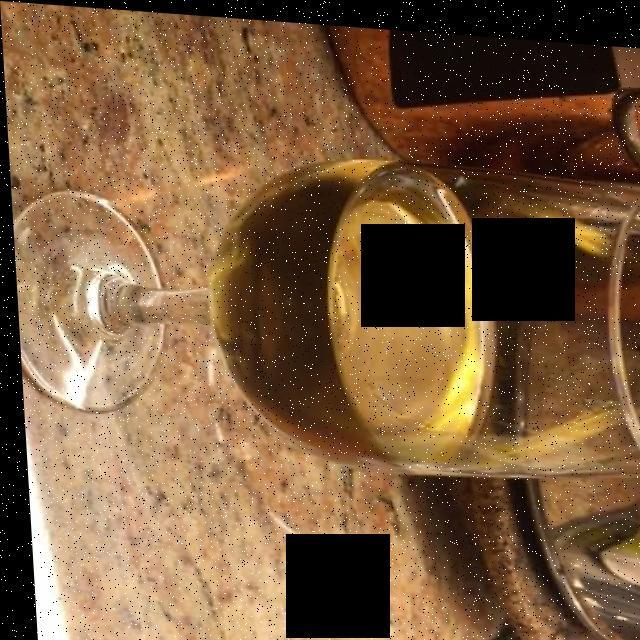drink: (209, 169, 479, 455)
